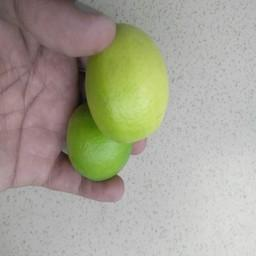Good_lime: (83, 20, 172, 145), (65, 104, 130, 180)
